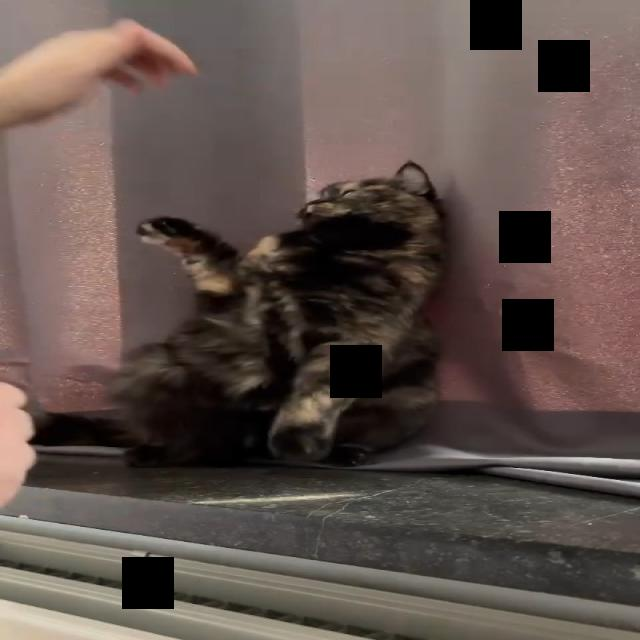authorized: (107, 159, 449, 468)
